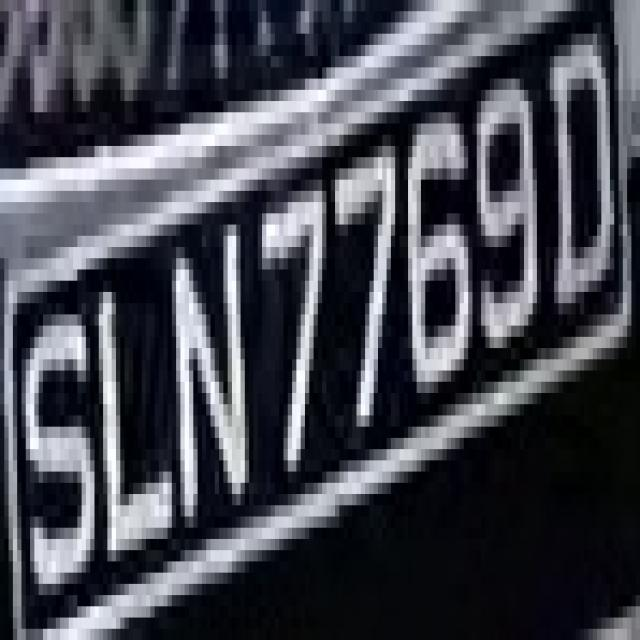6: (391, 90, 477, 415)
7: (249, 168, 331, 494), (322, 124, 400, 449)
9: (464, 67, 541, 382)
D: (537, 23, 623, 314)
L: (90, 281, 176, 561)
N: (164, 202, 254, 517)
S: (9, 281, 103, 606)
